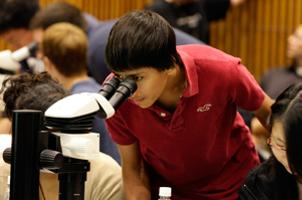person: (101, 12, 275, 200)
